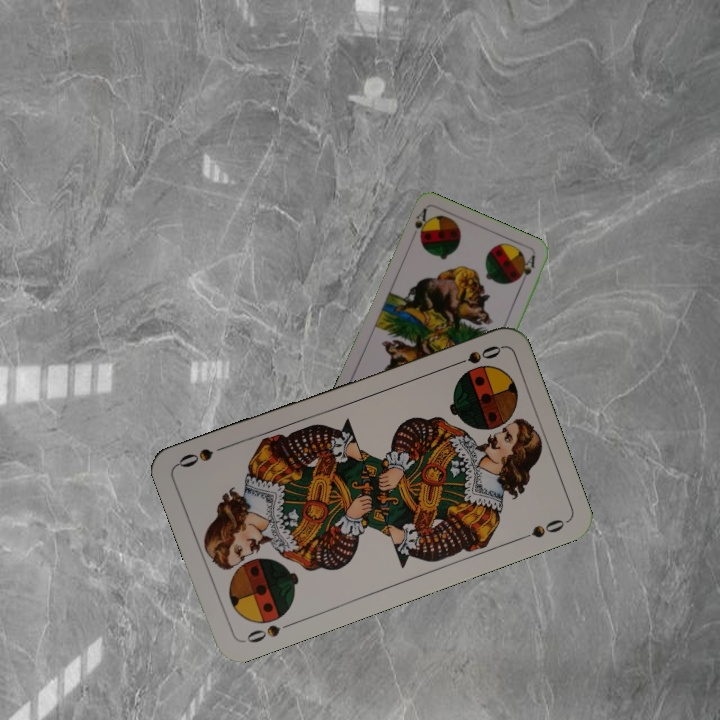SA: (411, 205, 432, 242)
SO: (446, 341, 504, 370), (239, 618, 296, 646)
